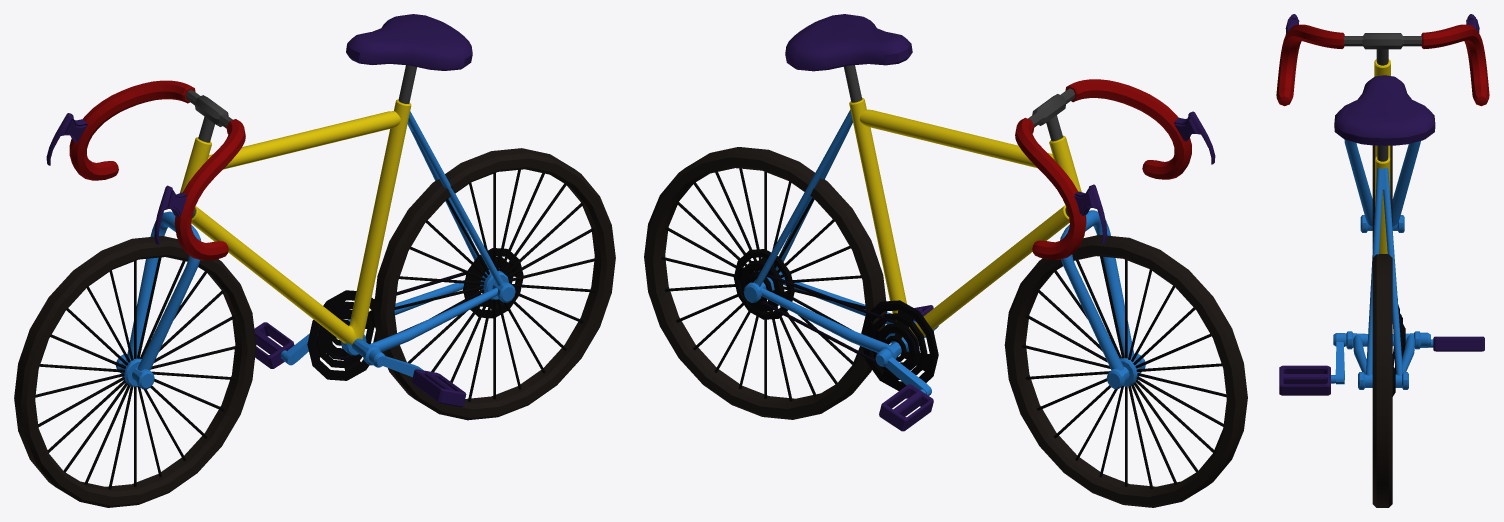
Rendered from Bike.FBX.
The picture shows the model from 3 angles, left to right: view 1: azimuth 30°, elevation 25°; view 2: azimuth 150°, elevation 25°; view 3: azimuth 270°, elevation 25°; orthographic projection. The views are drawn at different scales.
Parts seen in each view (by area): view 1: Bike; view 2: Bike; view 3: Bike.
Part boxes in pixels (<box>): Bike: <box>14,14,615,507</box>; Bike: <box>644,14,1247,507</box>; Bike: <box>1276,14,1489,507</box>.
Size of the model in its own units: 1262 by 437 by 824.
